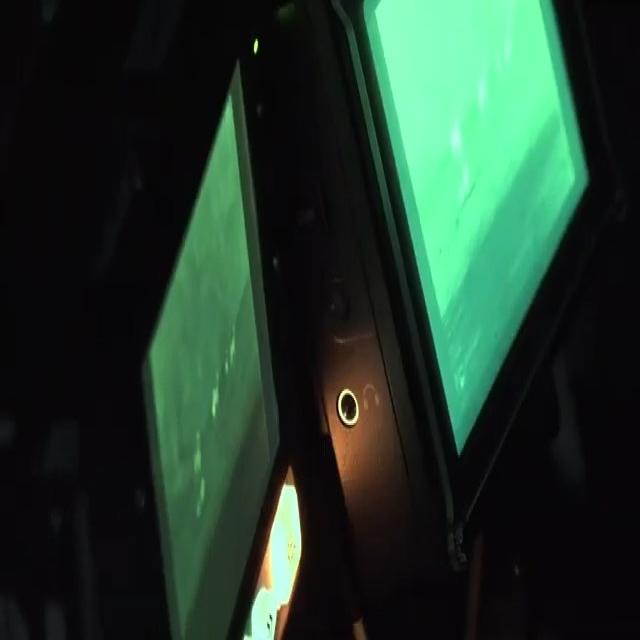device: (51, 0, 640, 637), (285, 0, 640, 539), (81, 1, 335, 638)
